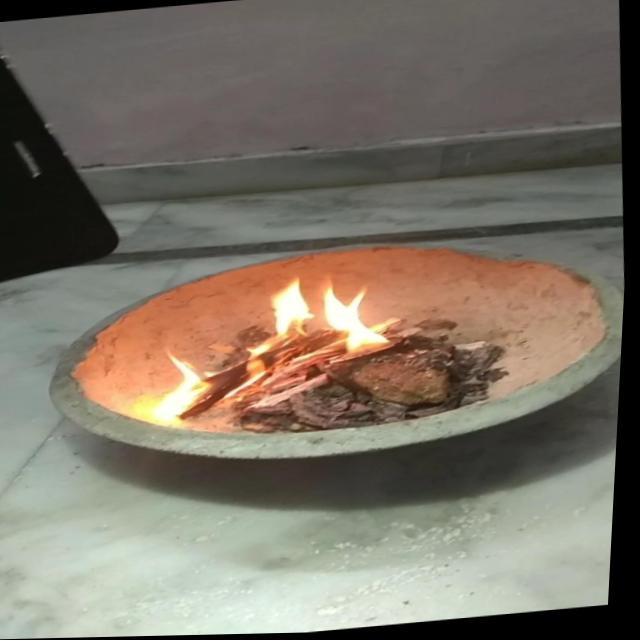fire: (147, 272, 392, 424)
